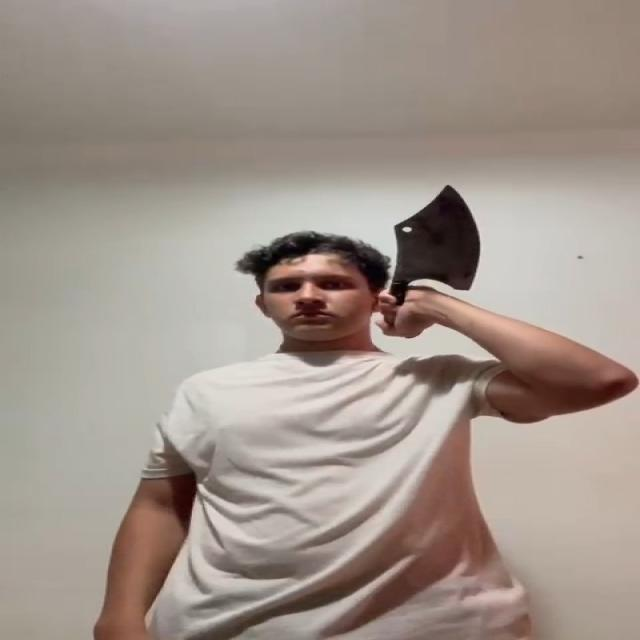knife: (398, 182, 485, 294)
